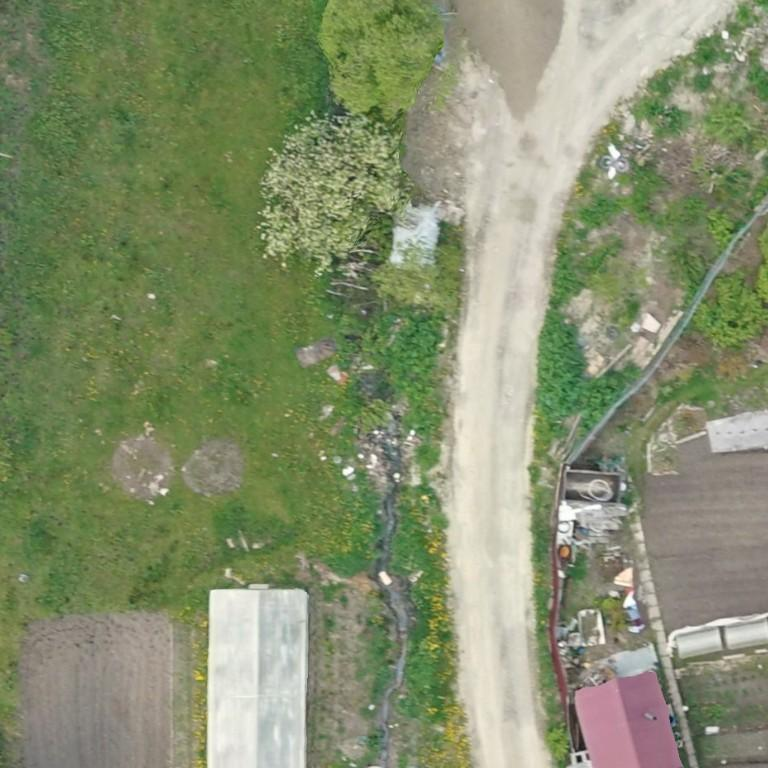hogweed: (536, 308, 625, 436), (395, 313, 438, 433)
